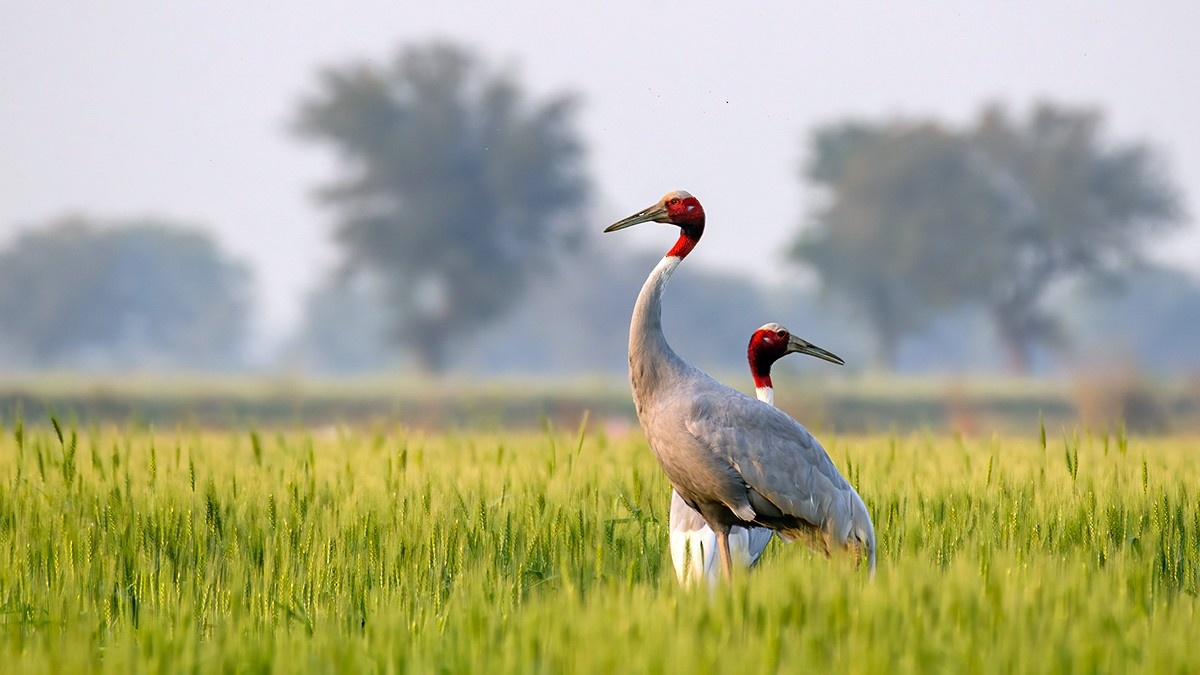crane: (603, 174, 746, 572), (735, 321, 854, 415)
